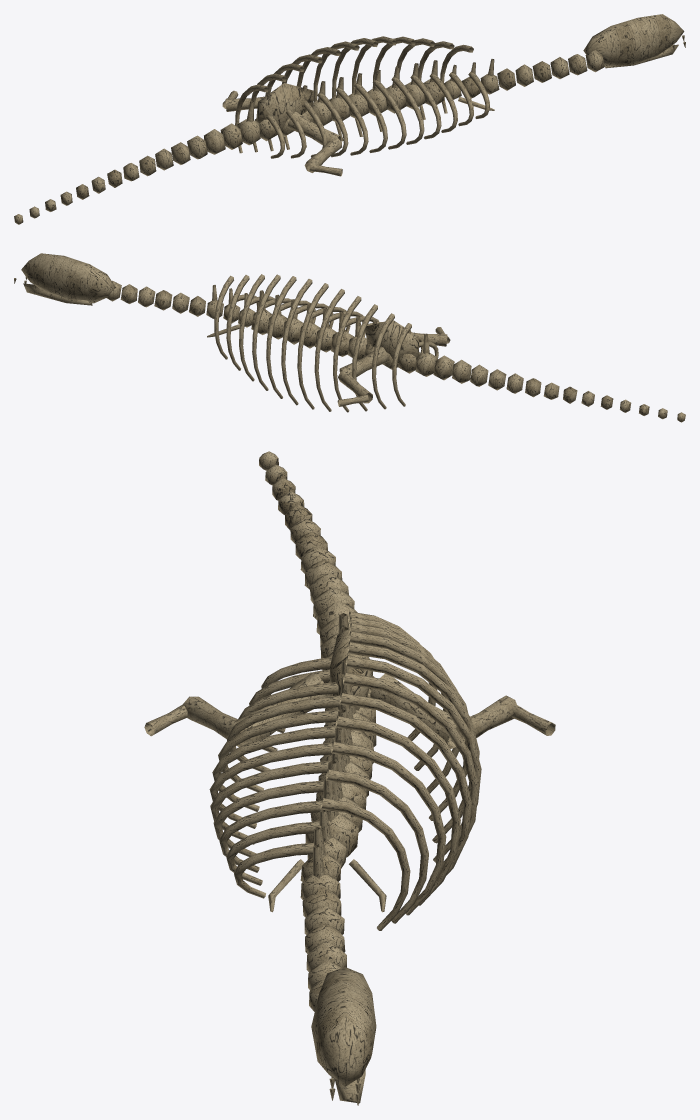
File: PROP_PC_Skeleton.fbx
3 views of the same model, one above another, from view 1: azimuth 30°, elevation 25°; view 2: azimuth 150°, elevation 25°; view 3: azimuth 270°, elevation 25° (orthographic). The views are drawn at different scales.
Visible parts, largest first — view 1: PROP_PC_Skeleton_LOD0; view 2: PROP_PC_Skeleton_LOD0; view 3: PROP_PC_Skeleton_LOD0.
Boxes of the visible parts, x1,y1,x2,y2 form: PROP_PC_Skeleton_LOD0: [14, 14, 685, 224]; PROP_PC_Skeleton_LOD0: [14, 253, 685, 422]; PROP_PC_Skeleton_LOD0: [144, 451, 555, 1105].
Size of what is drawn, in the model's own units: 17.56 by 2.8 by 4.82.
